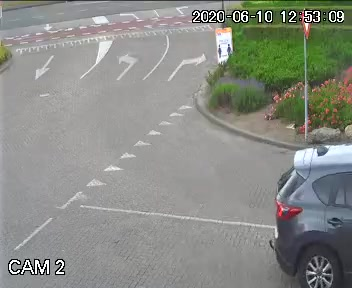car: (254, 136, 352, 288)
